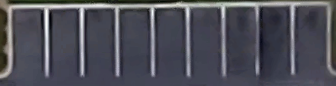Vacant: (187, 6, 224, 76), (10, 7, 46, 77), (46, 7, 82, 77), (117, 7, 153, 77), (257, 6, 293, 75), (153, 7, 188, 77), (223, 6, 258, 76), (293, 7, 329, 75), (82, 8, 117, 77)
